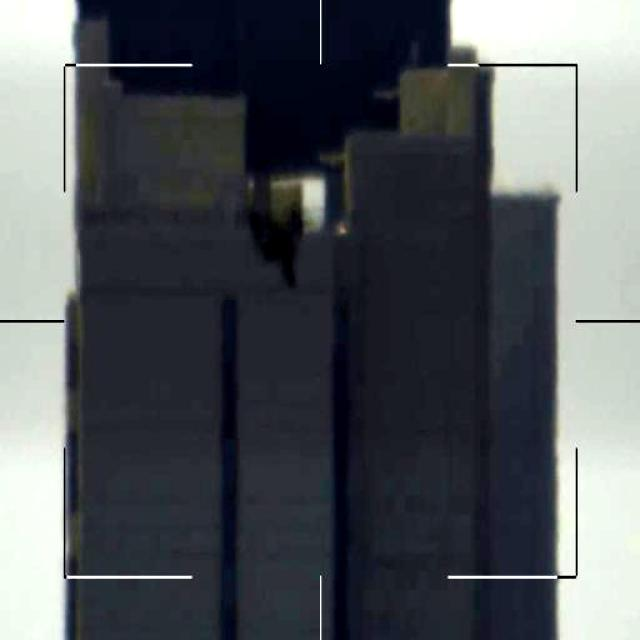bird: (240, 204, 309, 282)
